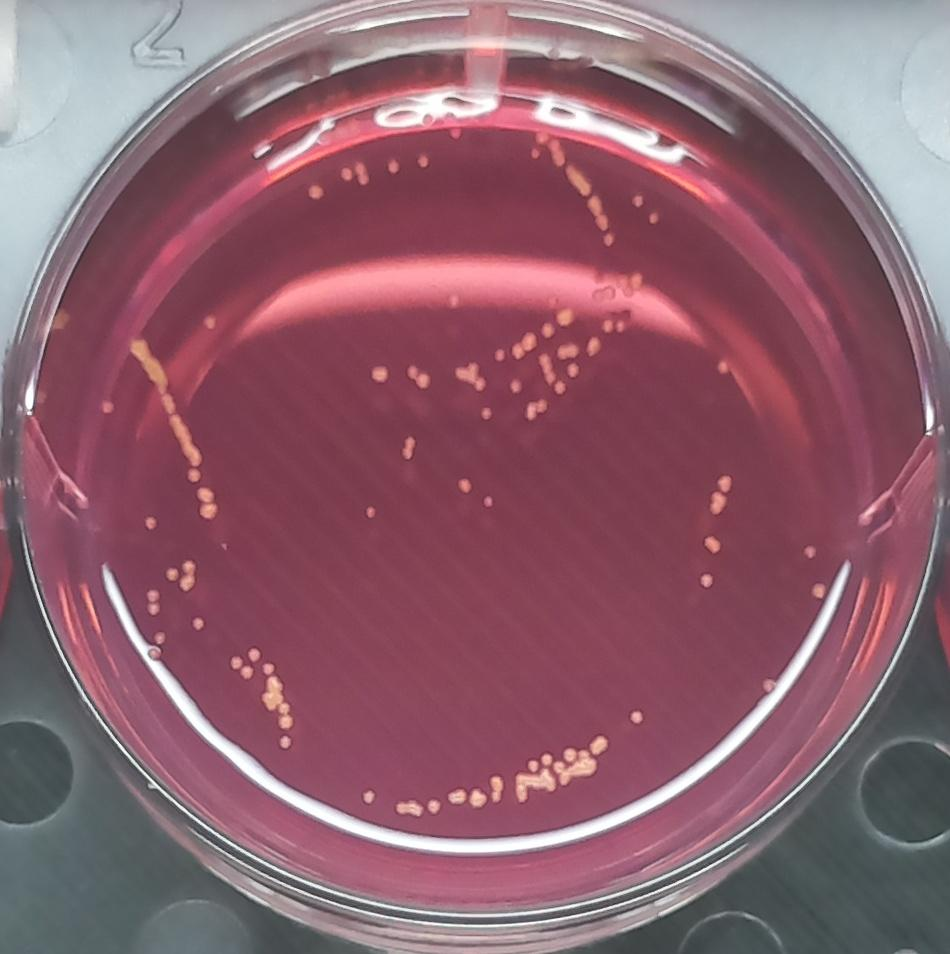mluteus: (122, 334, 204, 468), (532, 128, 616, 251), (260, 672, 295, 733), (441, 774, 489, 812), (534, 352, 567, 397), (453, 359, 489, 395), (228, 647, 262, 681), (192, 484, 219, 522), (403, 359, 434, 392), (389, 792, 427, 817), (340, 159, 370, 188), (144, 586, 170, 618), (178, 558, 200, 593), (586, 730, 614, 757), (398, 432, 422, 462), (484, 772, 507, 803), (302, 178, 327, 205), (522, 398, 548, 421), (140, 511, 161, 533), (557, 340, 579, 361), (185, 616, 207, 632), (162, 565, 178, 584), (362, 504, 377, 522)
